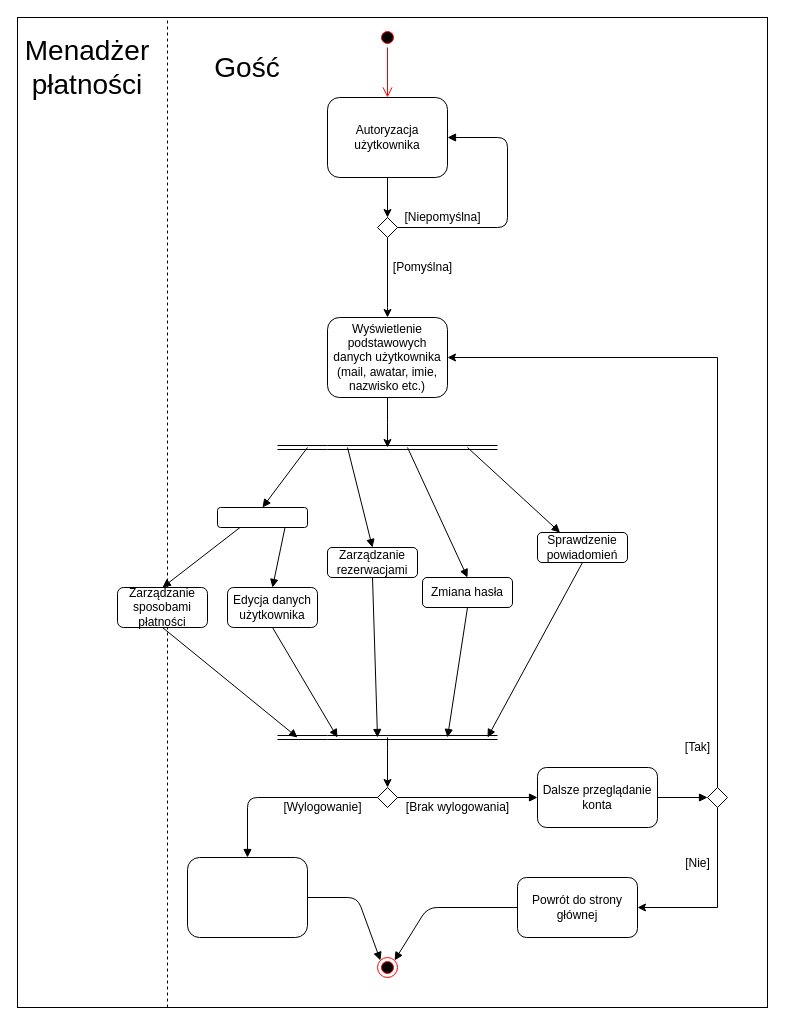
This 785x1026 diagram has some shape labels left out. Here are the shapes that lost their labels. From the top down, the centre of each, then its label:
(262,517): Szczegóły konta
(247,897): Koniec sesji i wylogowanie użytkownika
